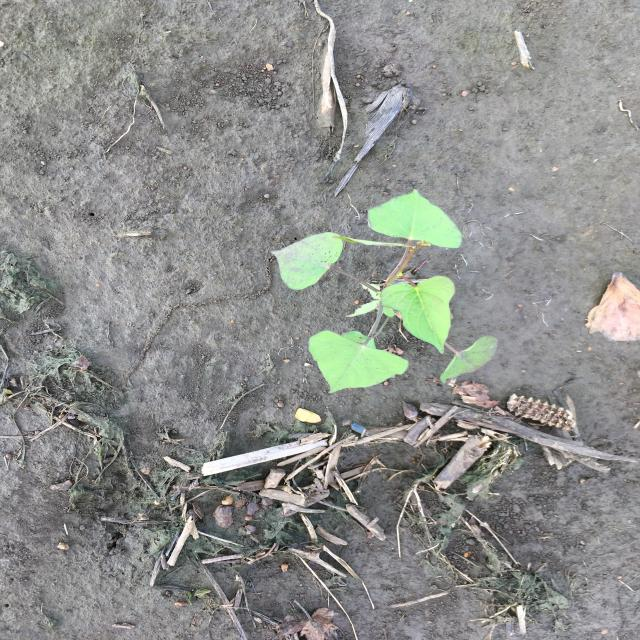MorningGlory: (268, 186, 501, 396)
